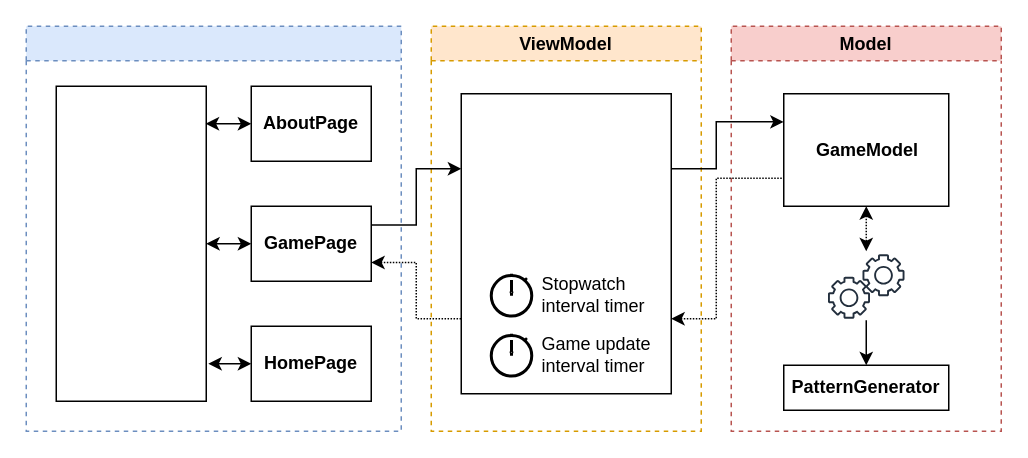
This 1028x458 diagram has some shape labels left out. Each missing label, with the box of its shape:
GameViewModel: (460, 92, 671, 394)
Infrastructure Gatsby.js/MUI: (55, 85, 206, 401)
View: (25, 25, 401, 431)
Web Worker: (862, 254, 904, 296)
